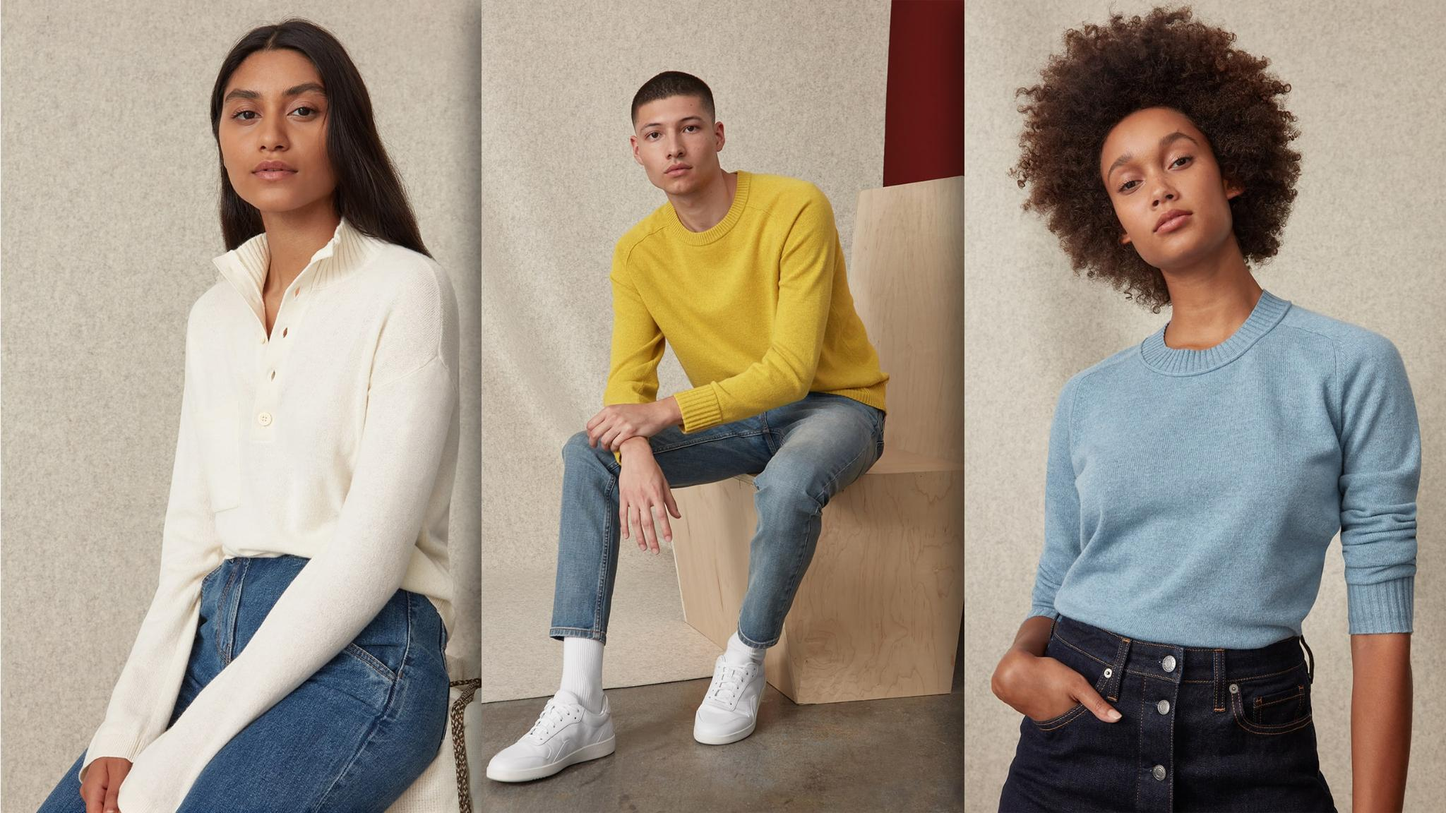long sleeve shirt: (77, 215, 465, 813)
sweater: (1021, 287, 1426, 655), (602, 169, 890, 465)
trousers: (34, 558, 456, 813), (550, 394, 888, 654), (998, 637, 1336, 813)
